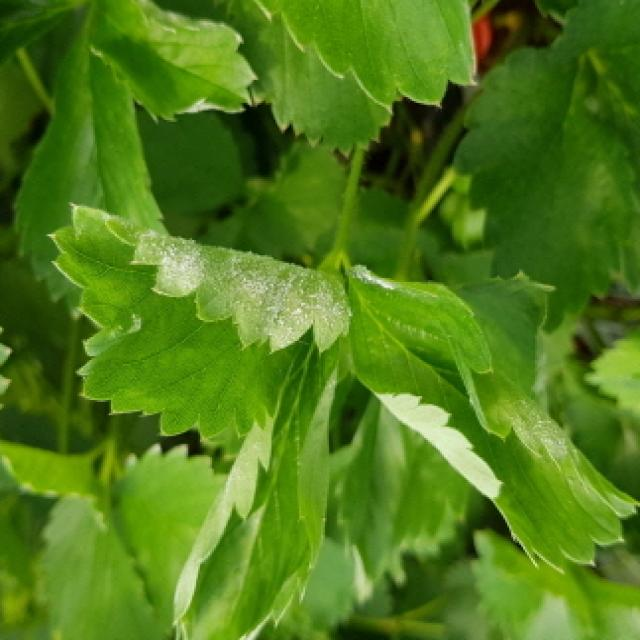Powdery Mildew Leaf: (345, 265, 640, 572), (48, 200, 351, 437), (169, 327, 347, 640), (87, 0, 259, 125)
